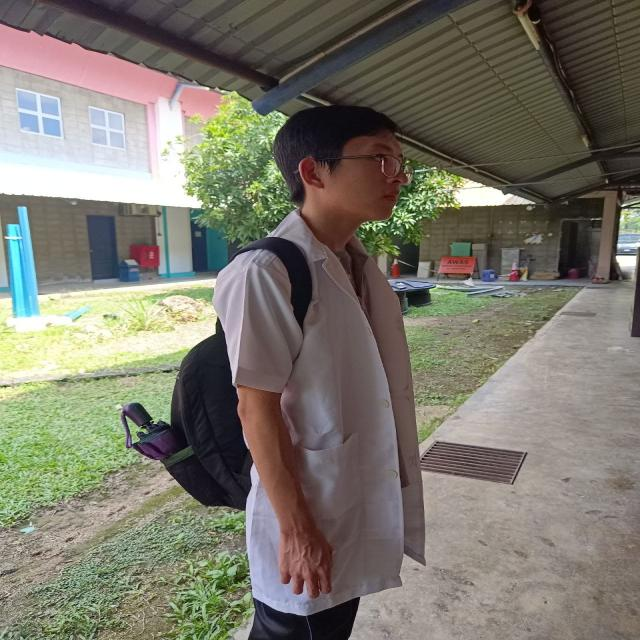person_with_labcoat: (131, 106, 425, 640)
